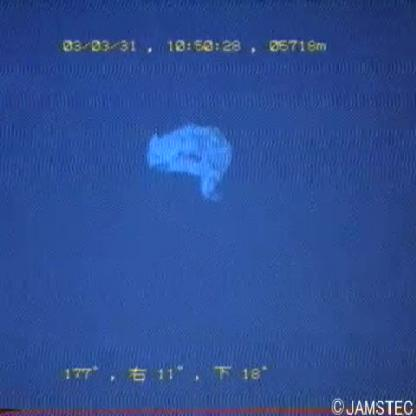Rác: (140, 115, 243, 215)
